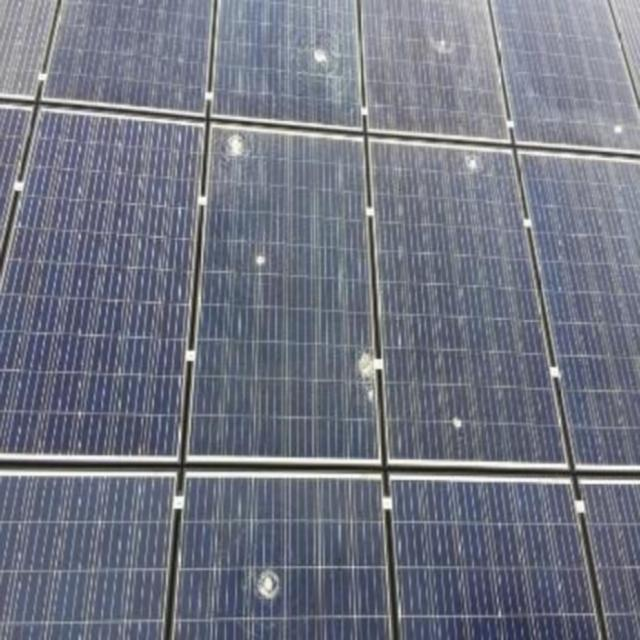cracked: (192, 119, 377, 464), (377, 142, 565, 466), (174, 476, 394, 640), (362, 2, 506, 144), (494, 2, 634, 148), (214, 2, 360, 138)
